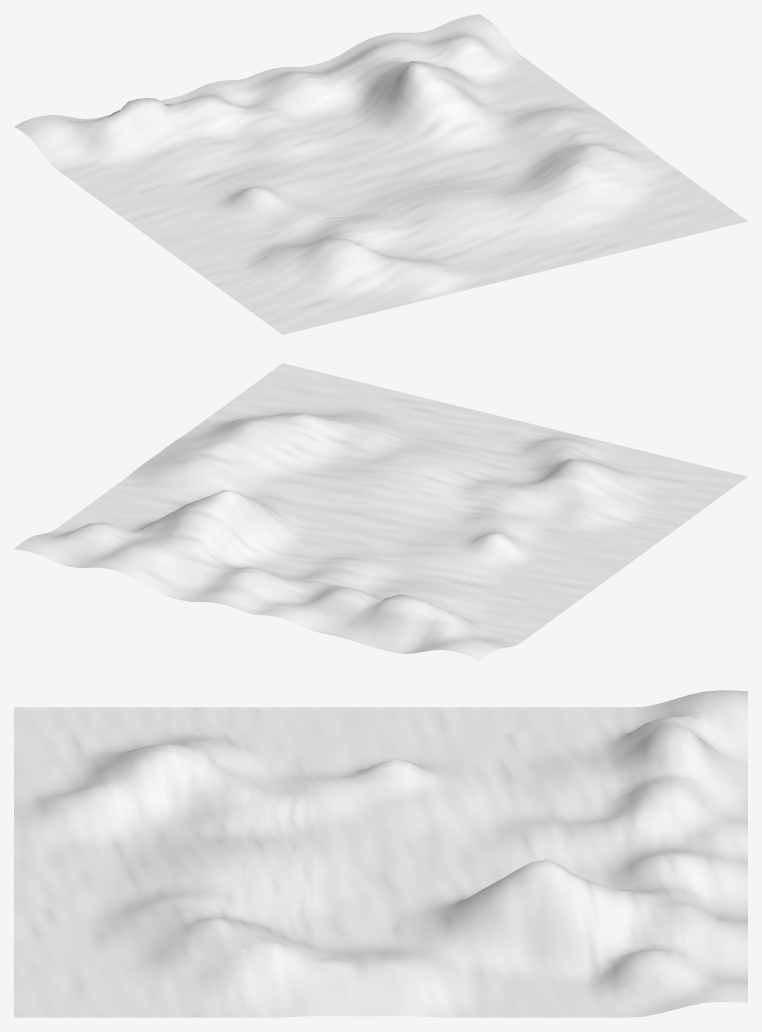
Rendered from LoadingSnowLand01.FBX.
3 views of the same model, one above another, from view 1: azimuth 30°, elevation 25°; view 2: azimuth 150°, elevation 25°; view 3: azimuth 270°, elevation 25° (orthographic). The views are drawn at different scales.
Parts seen in each view (by area): view 1: Plane060; view 2: Plane060; view 3: Plane060.
Part boxes in pixels (<box>): Plane060: <box>14,14,747,334</box>; Plane060: <box>14,363,747,661</box>; Plane060: <box>14,690,747,1017</box>.
Size of the model in its own units: 2000 by 2000 by 196.
